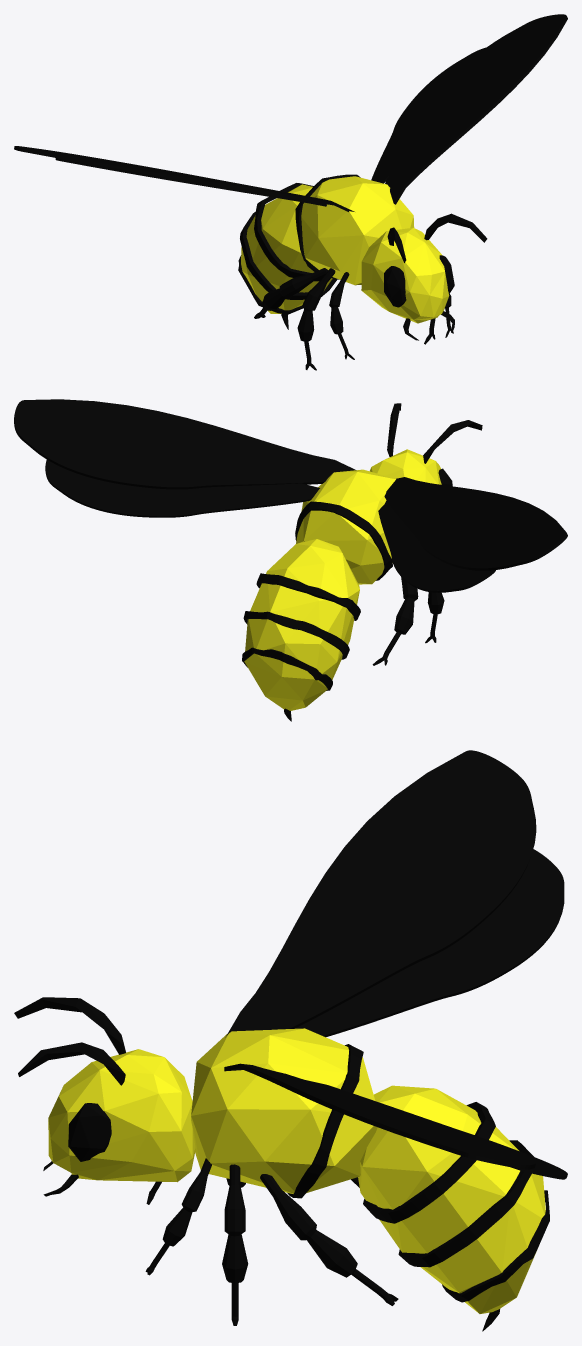
Rendered from lowpoly_bee.glb.
3 views of the same model, one above another, from view 1: azimuth 30°, elevation 25°; view 2: azimuth 150°, elevation 25°; view 3: azimuth 270°, elevation 25° (orthographic). The views are drawn at different scales.
Visible parts, largest first — view 1: BezierCurve.011, Body.002, Cube.005, Cube.006, BezierCurve.012, BezierCurve.009, Cylinder.023, Cylinder.025, Circle.007, Circle.006, BezierCurve.010, Sphere.006 (+3 smaller); view 2: BezierCurve.011, Cube.006, BezierCurve.009, BezierCurve.012, Body.002, BezierCurve.010, Cube.005, Circle.004, Circle.006, Circle.007, Cylinder.025, Circle.005 (+2 smaller); view 3: BezierCurve.009, Body.002, Cube.006, Cube.005, BezierCurve.010, BezierCurve.011, Cylinder.024, Cylinder.022, Circle.006, Circle.007, Sphere.005, Circle.004 (+5 smaller).
Part boxes in pixels (box(x1,y1,x2,y2)): BezierCurve.011: box(385, 14, 567, 204); Body.002: box(295, 176, 414, 285); Cube.005: box(361, 227, 449, 323); Cube.006: box(241, 184, 332, 313); BezierCurve.012: box(371, 47, 485, 183); BezierCurve.009: box(14, 146, 354, 211); Cylinder.023: box(297, 268, 335, 370); Cylinder.025: box(254, 268, 328, 318); Circle.007: box(254, 183, 322, 281); Circle.006: box(240, 212, 337, 299); BezierCurve.010: box(55, 158, 327, 206); Sphere.006: box(384, 266, 406, 307); BezierCurve.011: box(14, 399, 356, 489); Cube.006: box(244, 539, 359, 710); BezierCurve.009: box(384, 477, 567, 570); BezierCurve.012: box(45, 460, 319, 517); Body.002: box(296, 469, 395, 584); BezierCurve.010: box(378, 500, 495, 592); Cube.005: box(370, 449, 441, 484); Circle.004: box(295, 501, 392, 580); Circle.006: box(243, 611, 349, 659); Circle.007: box(256, 573, 360, 620); Cylinder.025: box(372, 577, 418, 665); Circle.005: box(242, 647, 332, 690); BezierCurve.009: box(225, 750, 536, 1037); Body.002: box(191, 1028, 377, 1193); Cube.006: box(358, 1085, 545, 1313); Cube.005: box(48, 1049, 195, 1182); BezierCurve.010: box(295, 849, 564, 1037); BezierCurve.011: box(224, 1063, 536, 1169); Cylinder.024: box(260, 1174, 398, 1305); Cylinder.022: box(222, 1164, 248, 1325); Circle.006: box(398, 1140, 533, 1267); Circle.007: box(363, 1102, 495, 1223); Sphere.005: box(68, 1103, 111, 1161); Circle.004: box(287, 1044, 363, 1198).
Size of the model in its own units: 14.46 by 6.33 by 8.35.
